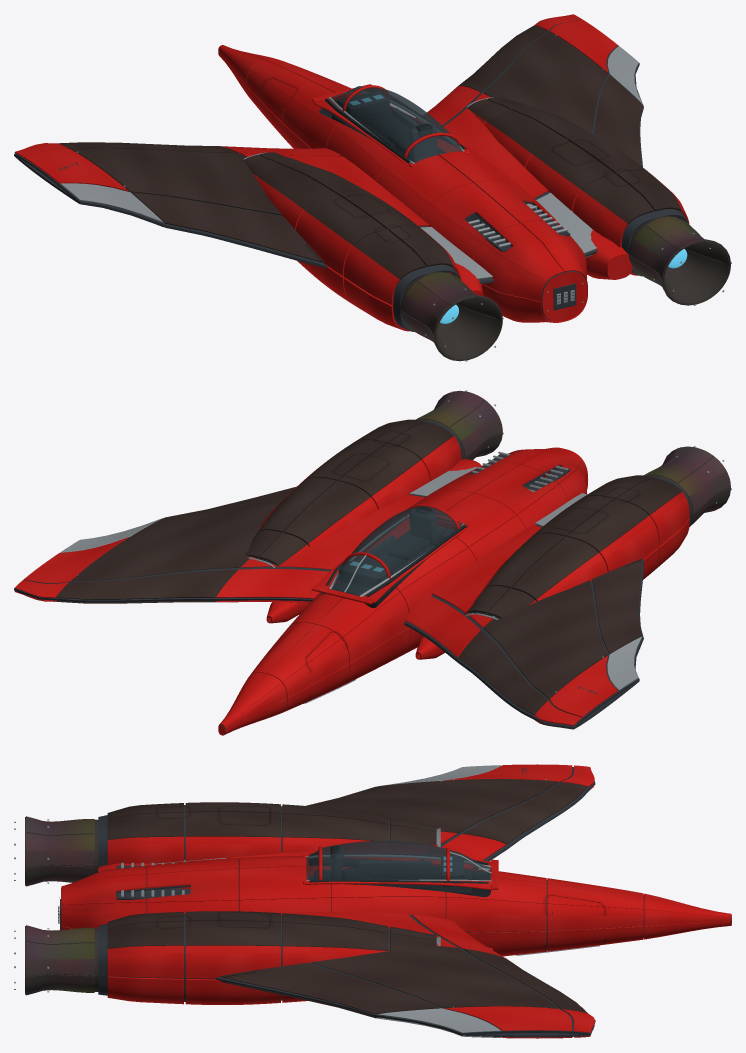
The picture shows the model from 3 angles, top to bottom: view 1: azimuth 30°, elevation 25°; view 2: azimuth 150°, elevation 25°; view 3: azimuth 270°, elevation 25°; orthographic projection. The views are drawn at different scales.
Parts seen in each view (by area): view 1: Fitted lifting skin.003, Aft pressure bulkhead, Fuselage fitted skin 00.0, Aft avionics recess, Swept inlet guide vane, Formed heat alloy nozzle petal, Sealed avionics connector, Thin laminated canopy glazing, Connector protected contact, Pressure hull substrate; view 2: Fitted lifting skin.003, Aft pressure bulkhead, Fuselage fitted skin 00.0, Aft avionics recess, Formed heat alloy nozzle petal, Thin laminated canopy glazing, Sealed avionics connector, Connector protected contact; view 3: Fitted lifting skin.003, Aft pressure bulkhead, Fuselage fitted skin 00.0, Formed heat alloy nozzle petal, Aft avionics recess, Thin laminated canopy glazing, Sealed avionics connector, Connector protected contact, Pressure hull substrate, Swept inlet guide vane.
Part boxes in pixels (left/top/right/bottom): Fitted lifting skin.003: left=58, top=25, right=681, bottom=279; Aft pressure bulkhead: left=14, top=14, right=689, bottom=331; Fuselage fitted skin 00.0: left=282, top=81, right=587, bottom=301; Aft avionics recess: left=14, top=19, right=688, bottom=331; Swept inlet guide vane: left=400, top=216, right=730, bottom=360; Formed heat alloy nozzle petal: left=401, top=216, right=730, bottom=361; Sealed avionics connector: left=60, top=35, right=731, bottom=361; Thin laminated canopy glazing: left=331, top=87, right=462, bottom=163; Connector protected contact: left=325, top=98, right=573, bottom=302; Pressure hull substrate: left=319, top=97, right=585, bottom=321; Fitted lifting skin.003: left=56, top=419, right=681, bottom=715; Aft pressure bulkhead: left=14, top=436, right=689, bottom=735; Fuselage fitted skin 00.0: left=289, top=447, right=587, bottom=663; Aft avionics recess: left=14, top=419, right=690, bottom=729; Formed heat alloy nozzle petal: left=416, top=390, right=730, bottom=526; Thin laminated canopy glazing: left=331, top=506, right=462, bottom=595; Sealed avionics connector: left=60, top=390, right=731, bottom=703; Connector protected contact: left=325, top=506, right=466, bottom=607; Fitted lifting skin.003: left=107, top=779, right=587, bottom=1018; Aft pressure bulkhead: left=61, top=764, right=731, bottom=1038; Fuselage fitted skin 00.0: left=61, top=856, right=546, bottom=932; Formed heat alloy nozzle petal: left=26, top=816, right=94, bottom=995; Aft avionics recess: left=60, top=767, right=595, bottom=1037; Thin laminated canopy glazing: left=306, top=841, right=491, bottom=880; Sealed avionics connector: left=14, top=765, right=599, bottom=1037; Connector protected contact: left=58, top=845, right=488, bottom=920; Pressure hull substrate: left=61, top=858, right=731, bottom=949; Swept inlet guide vane: left=25, top=817, right=98, bottom=994.
Bounding box in the file's own units: 3.04 × 0.6239 × 3.46.
9 materials, 3 textured.
